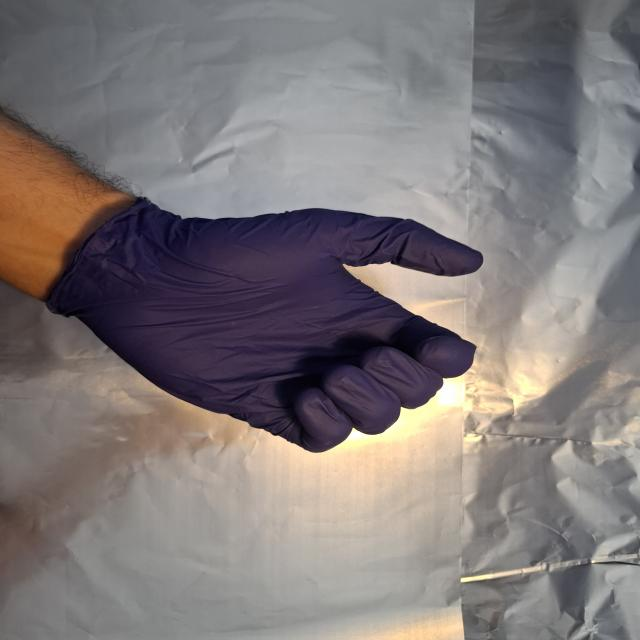glove_on: (43, 191, 487, 460)
